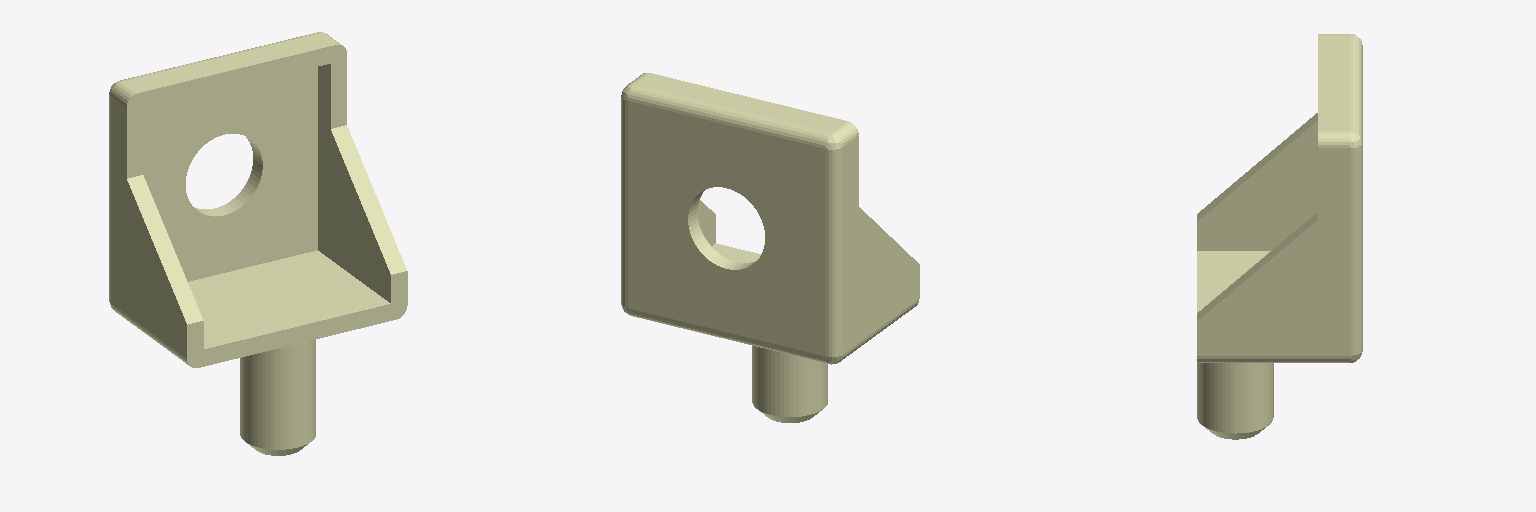
3 views of the same model, side by side, from view 1: azimuth 30°, elevation 25°; view 2: azimuth 150°, elevation 25°; view 3: azimuth 270°, elevation 25° (orthographic).
Parts seen in each view (by area): view 1: chair_braket(4ea); view 2: chair_braket(4ea); view 3: chair_braket(4ea).
Part boxes in pixels (bbox=[...]): chair_braket(4ea): bbox=[109, 32, 407, 455]; chair_braket(4ea): bbox=[621, 73, 919, 422]; chair_braket(4ea): bbox=[1197, 34, 1362, 439].
Bounding box in the file's own units: 20 × 30 × 13.
1 materials, 1 textured.